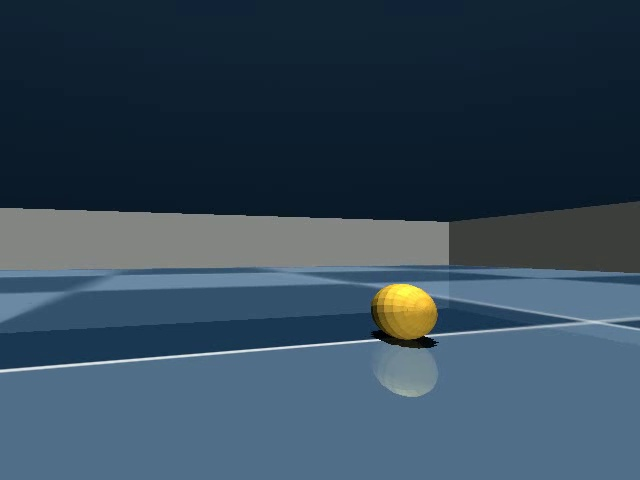lemon: (366, 280, 448, 351)
